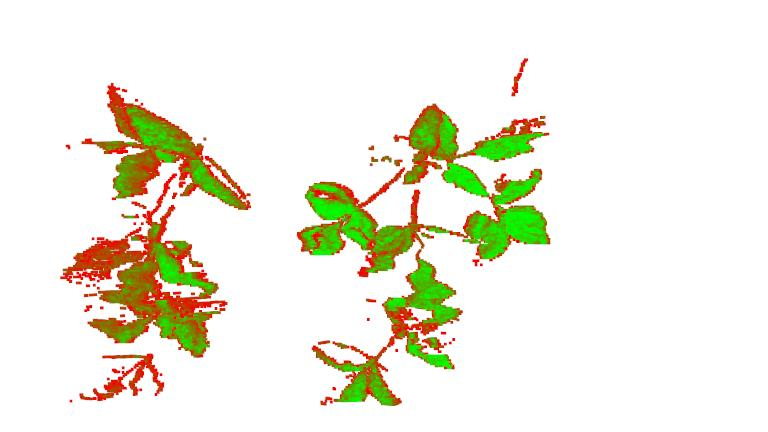mungbean: (294, 60, 555, 266), (68, 75, 249, 286), (313, 267, 486, 408), (71, 287, 248, 410)
